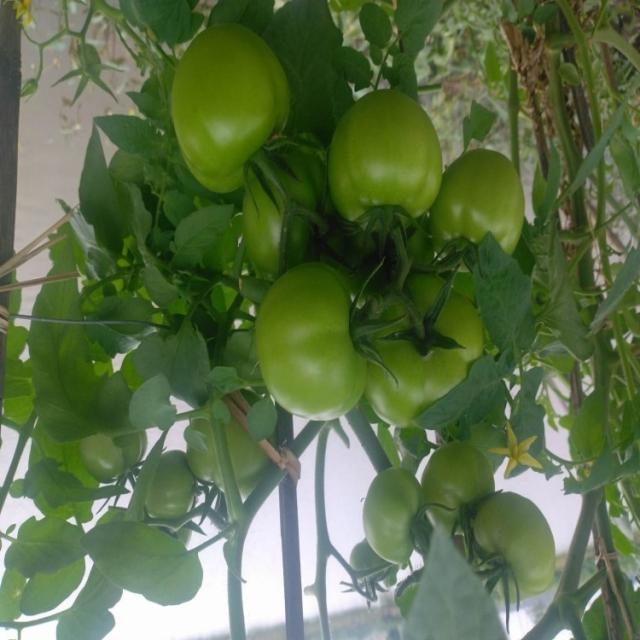tomato: (228, 261, 382, 445), (368, 273, 502, 436), (332, 85, 464, 243), (175, 39, 297, 185), (457, 487, 569, 616), (445, 135, 537, 270), (238, 125, 323, 262), (401, 427, 497, 537), (186, 410, 286, 508), (341, 454, 423, 569), (140, 452, 225, 544), (78, 432, 170, 495)
